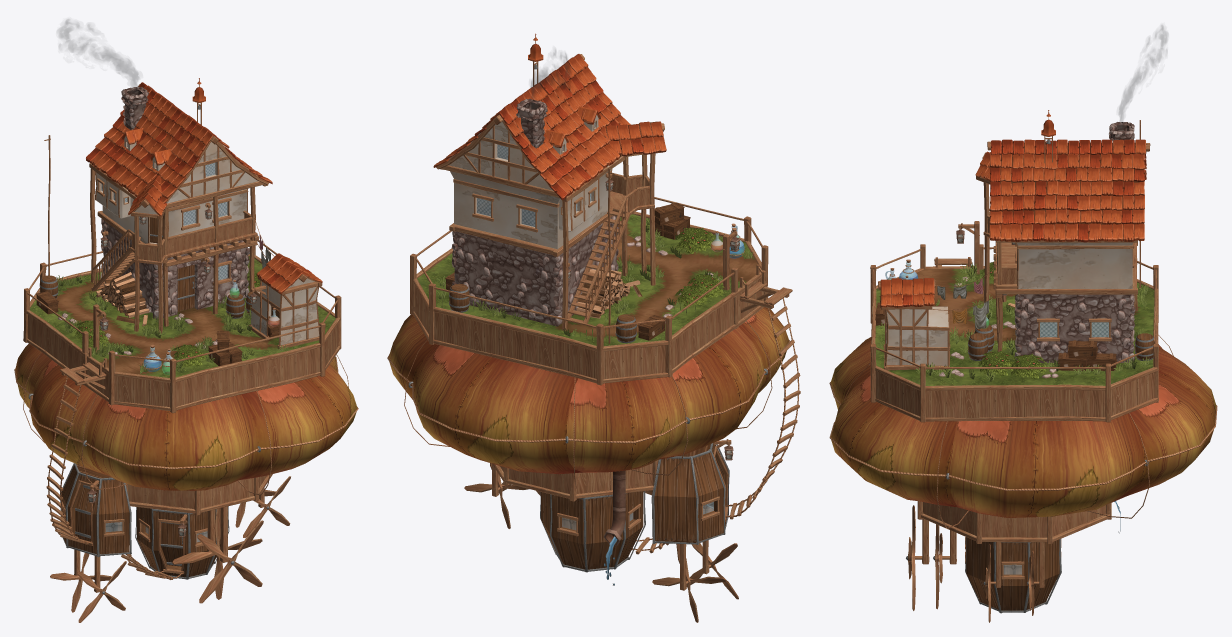
Rendered from floating_island.glb.
3 views of the same model, side by side, from view 1: azimuth 30°, elevation 25°; view 2: azimuth 150°, elevation 25°; view 3: azimuth 270°, elevation 25° (orthographic). The views are drawn at different scales.
Visible parts, largest first — view 1: Balloon, Platform_WoodenParts, House_WoodenParts, woodbottomparts, RoofTiles, BASEGRASS, Bottomcabins, House Plaster parts, StoneWallAndCornerStones, GRASS_Loose, SHED_Plaster, SHED_ WoodenParts (+9 smaller); view 2: Balloon, Platform_WoodenParts, Bottomcabins, House_WoodenParts, RoofTiles, BASEGRASS, House Plaster parts, woodbottomparts, StoneWallAndCornerStones, Ropes, GRASS_Loose, SmallLeaves082 (+7 smaller); view 3: Balloon, RoofTiles, Platform_WoodenParts, BASEGRASS, woodbottomparts, StoneWallAndCornerStones, House Plaster parts, House_WoodenParts, Bottomcabins, SHED_Plaster, GRASS_Loose, SHED_ WoodenParts (+8 smaller).
Part boxes in pixels (<box>): Balloon: <box>15,344,357,490</box>; Platform_WoodenParts: <box>23,135,341,413</box>; House_WoodenParts: <box>89,83,268,333</box>; woodbottomparts: <box>46,384,290,622</box>; RoofTiles: <box>86,82,322,293</box>; BASEGRASS: <box>30,256,335,377</box>; Bottomcabins: <box>60,463,229,579</box>; House Plaster parts: <box>89,136,258,243</box>; StoneWallAndCornerStones: <box>101,219,249,319</box>; GRASS_Loose: <box>56,274,288,373</box>; SHED_Plaster: <box>251,278,319,345</box>; SHED_ WoodenParts: <box>248,274,322,349</box>; Balloon: <box>388,307,789,474</box>; Platform_WoodenParts: <box>410,168,792,385</box>; Bottomcabins: <box>540,443,729,572</box>; House_WoodenParts: <box>436,41,664,330</box>; RoofTiles: <box>433,54,666,199</box>; BASEGRASS: <box>417,214,760,345</box>; House Plaster parts: <box>448,115,622,249</box>; woodbottomparts: <box>464,306,800,622</box>; StoneWallAndCornerStones: <box>451,215,618,326</box>; Ropes: <box>387,321,789,488</box>; GRASS_Loose: <box>436,218,752,341</box>; SmallLeaves082: <box>675,227,724,307</box>; Balloon: <box>830,337,1216,517</box>; RoofTiles: <box>880,139,1146,307</box>; Platform_WoodenParts: <box>870,120,1158,422</box>; BASEGRASS: <box>875,269,1154,385</box>; woodbottomparts: <box>908,501,1111,622</box>; StoneWallAndCornerStones: <box>1014,294,1135,362</box>; House Plaster parts: <box>1016,242,1132,288</box>; House_WoodenParts: <box>976,117,1150,351</box>; Bottomcabins: <box>965,537,1061,613</box>; SHED_Plaster: <box>886,306,948,365</box>; GRASS_Loose: <box>877,262,1149,381</box>; SHED_ WoodenParts: <box>878,279,950,370</box>.
Size of the model in its own units: 1325 by 2246 by 1350.
30 materials, 28 textured.
